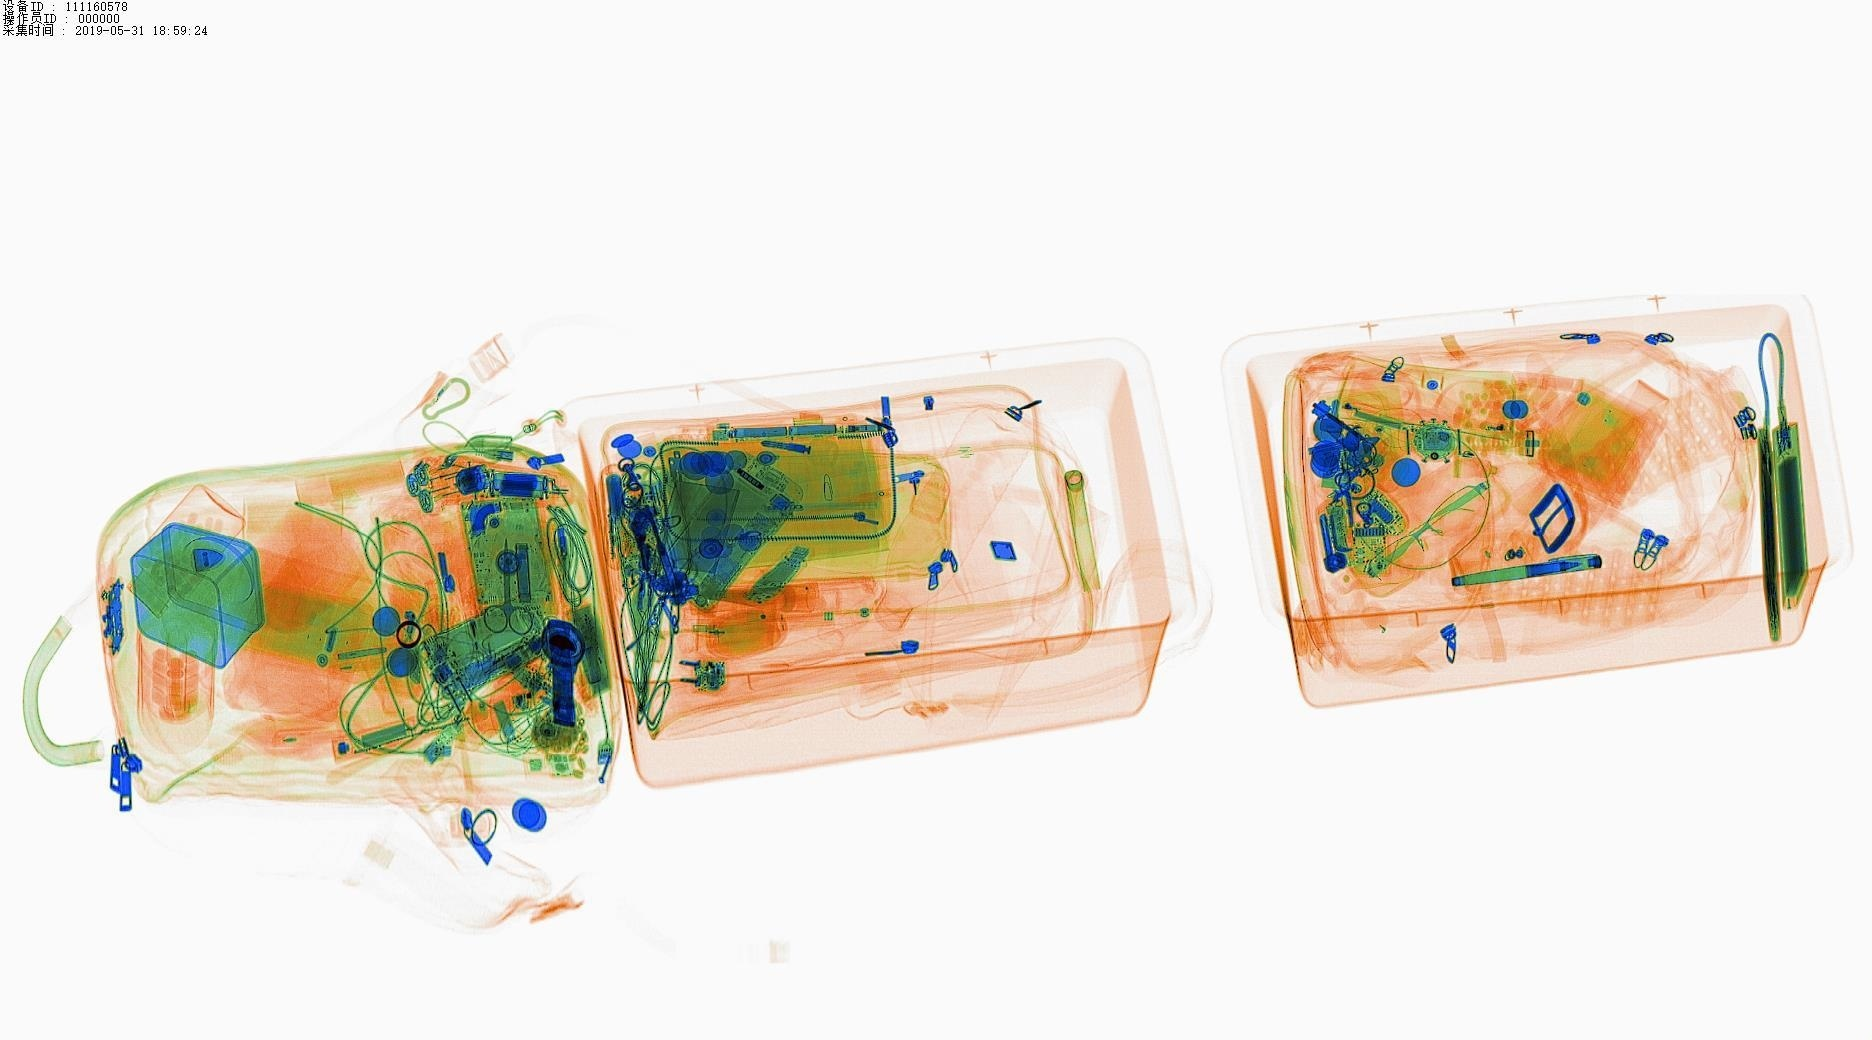NonmetallicFire: (453, 564, 510, 690)
